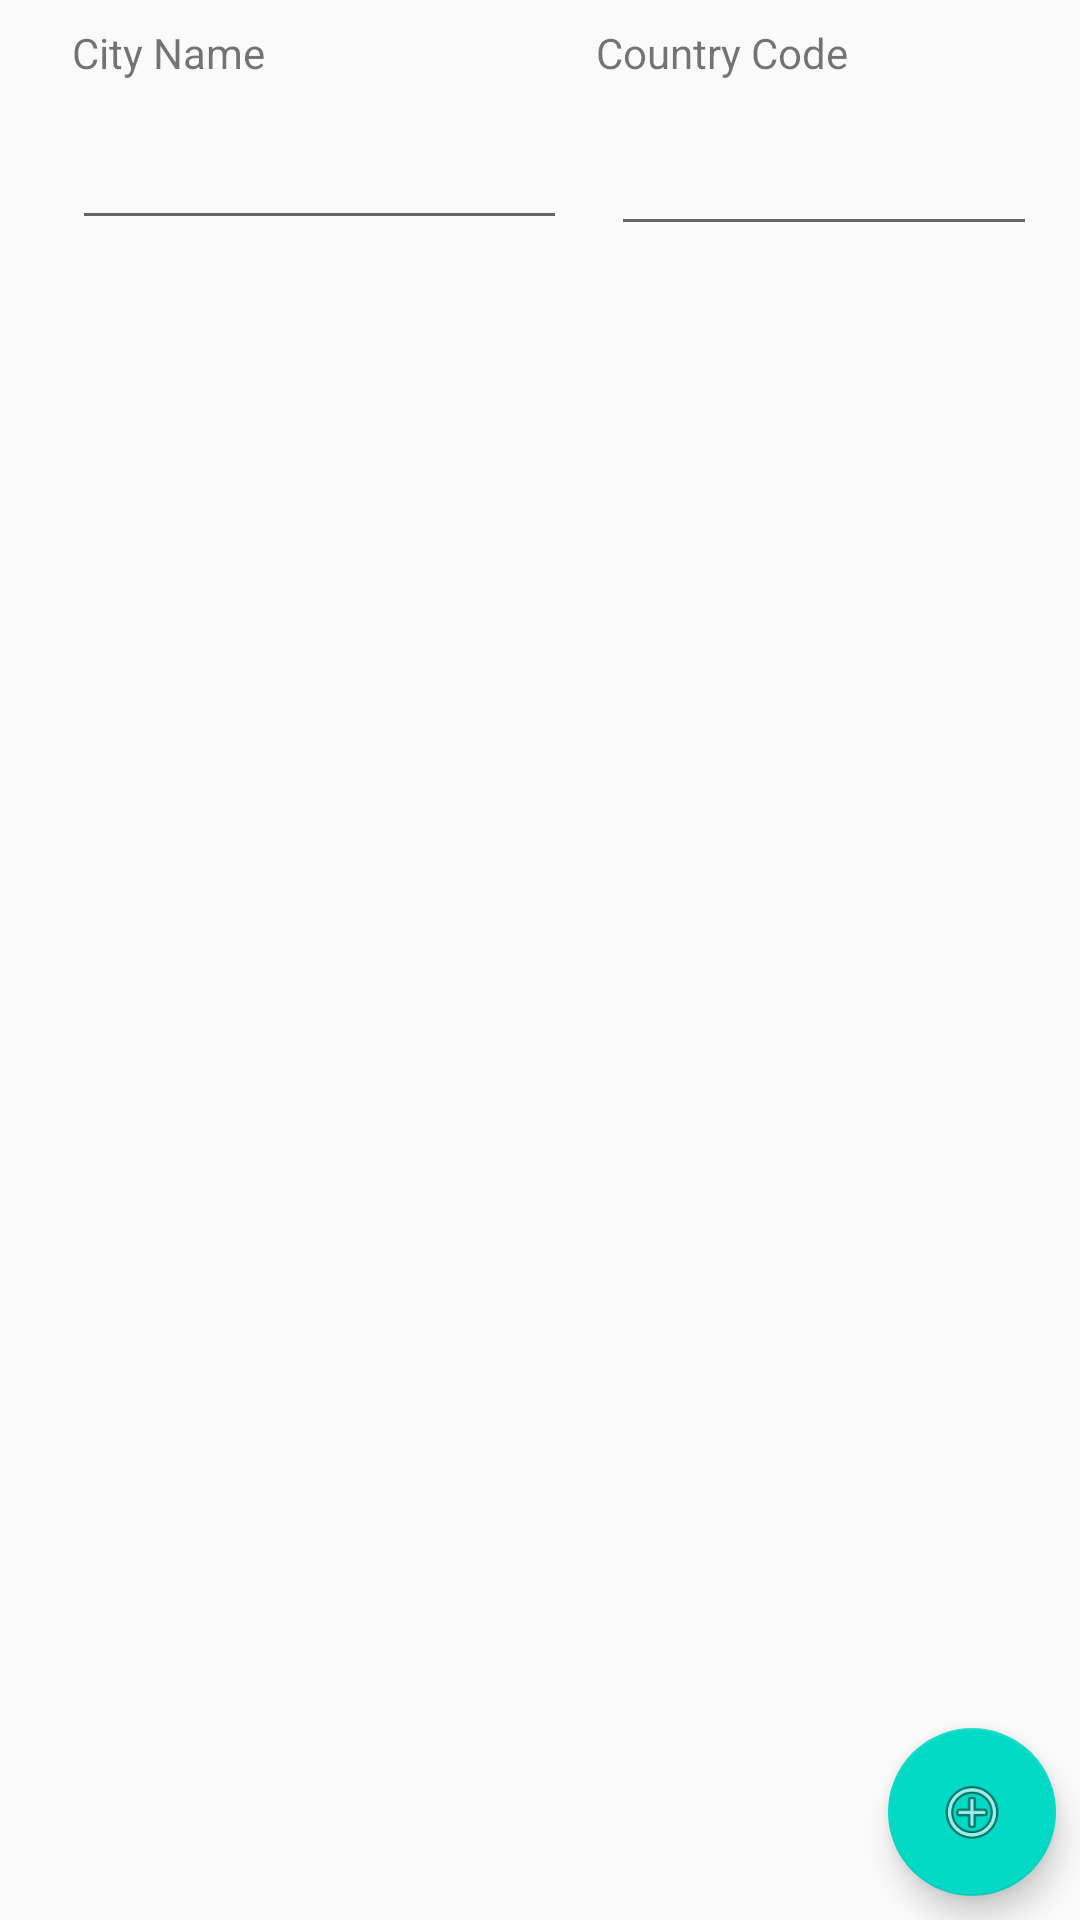

Where to tap for icons on this 1080w x 1920h app screen, as [x,y]:
add: [972,1812]
